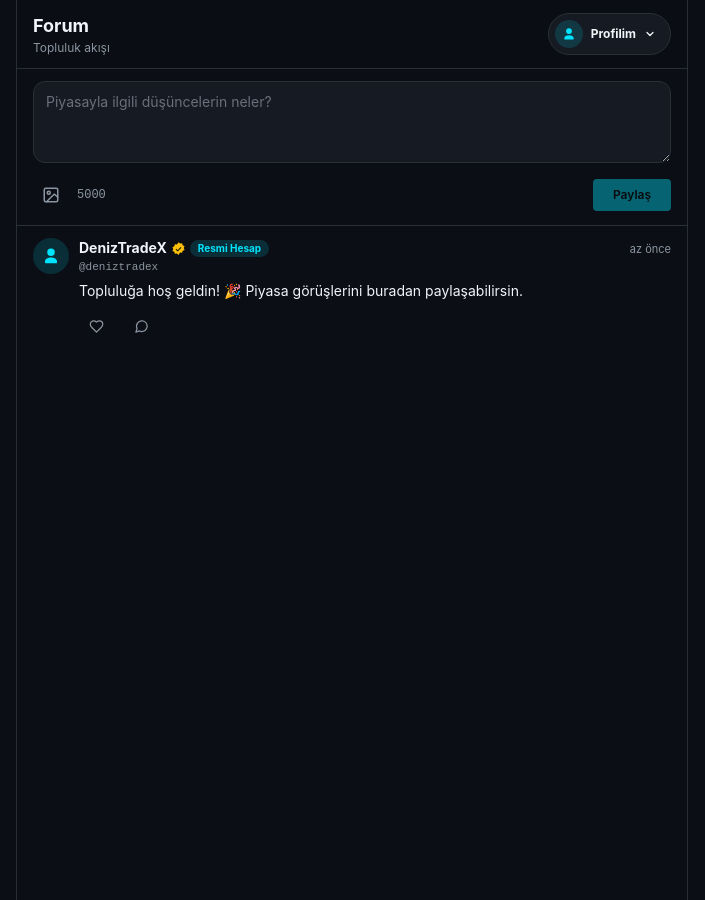
Scenario: ForumPage › expands replies and posts a reply with counter
This screenshot has width=705, height=900.
Expected: the text "Topluluğa hoş geldin" is shown, [79, 282, 523, 298]
Click the button named "Yanıtları göster" at x=144, y=326, box [124, 310, 165, 342]
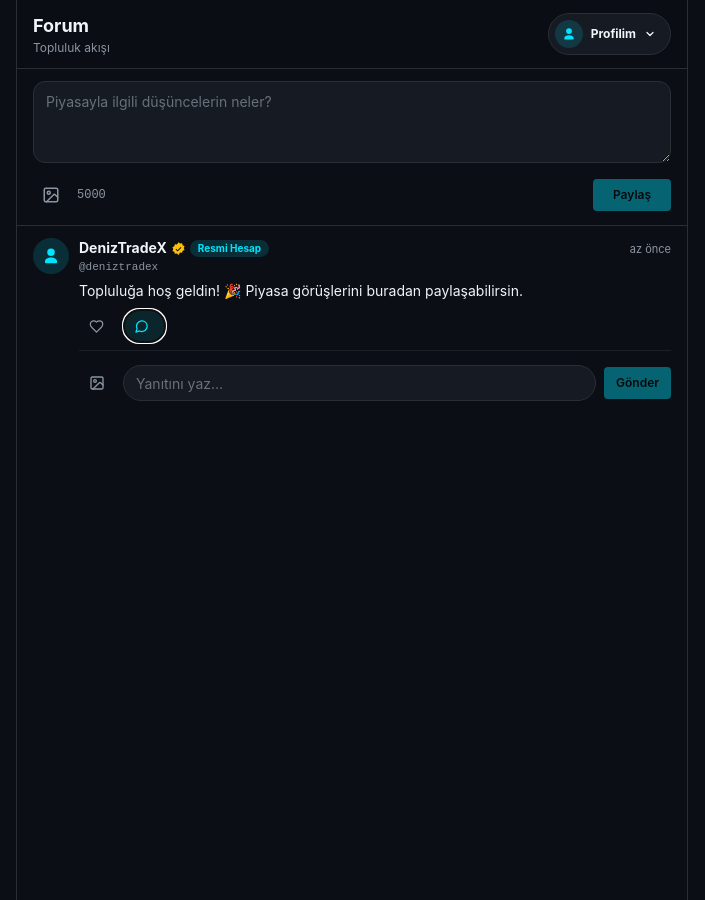
Now the field named "Yanıt yaz" is shown
Type "Katılıyorum!" into the field named "Yanıt yaz" at x=360, y=383, box [123, 365, 596, 401]
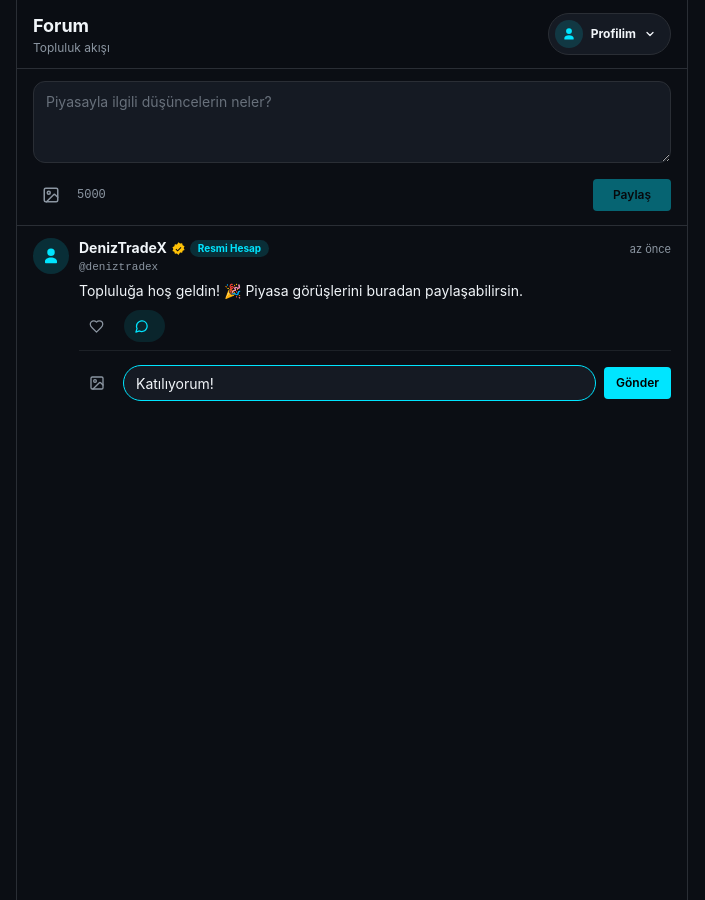
Click the button "Gönder" at x=638, y=383, box [604, 367, 671, 399]
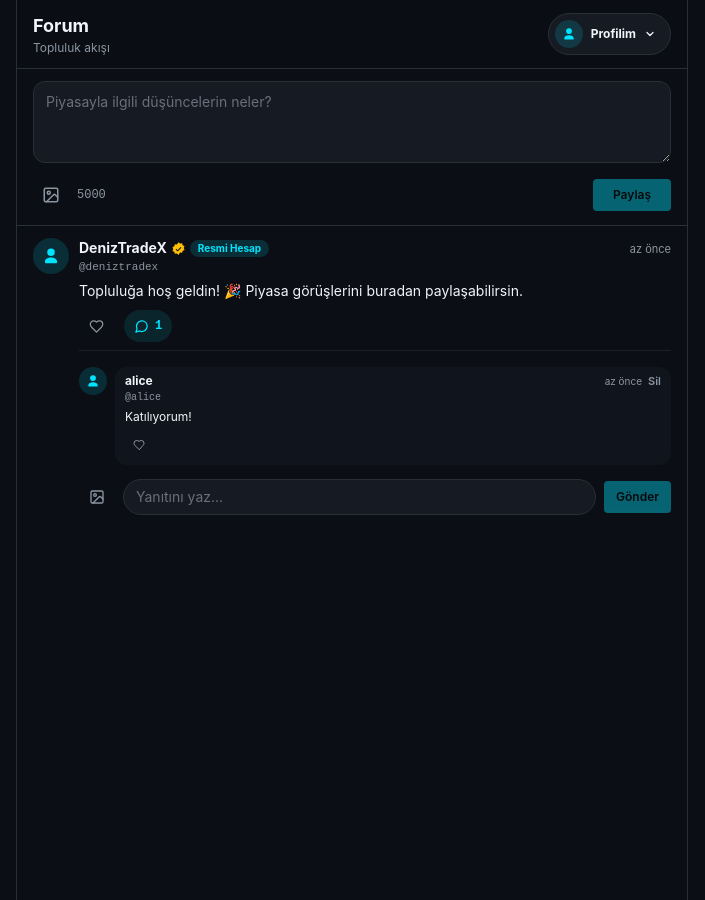
Now the text "Katılıyorum!" is shown, box [125, 409, 192, 424]
